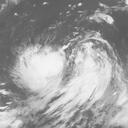cyclone: (16, 44, 65, 92), (70, 44, 115, 95)
